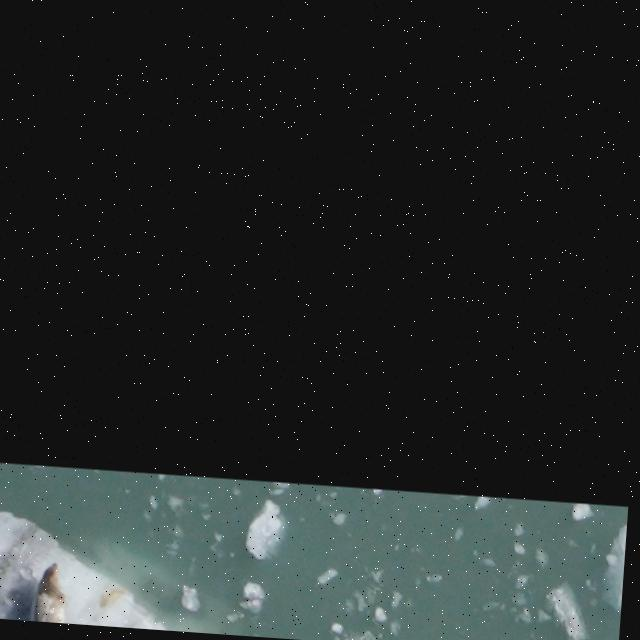seal: (27, 556, 72, 623)
